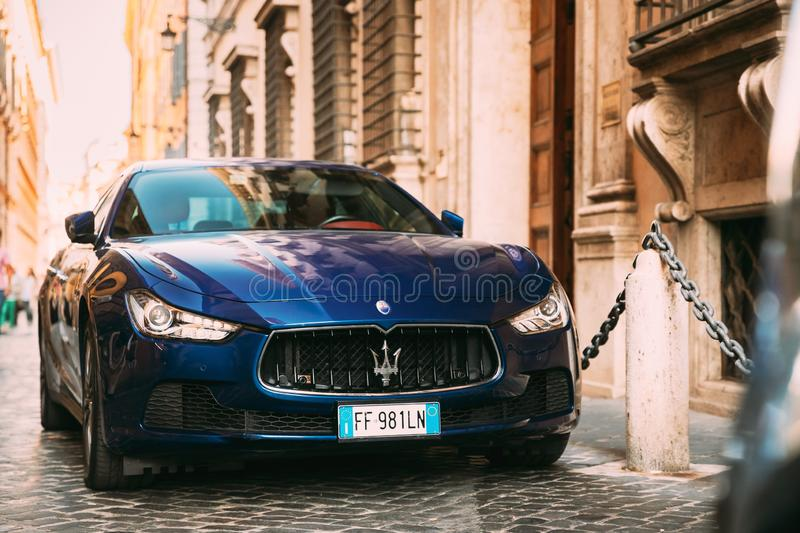car: (38, 159, 588, 471)
